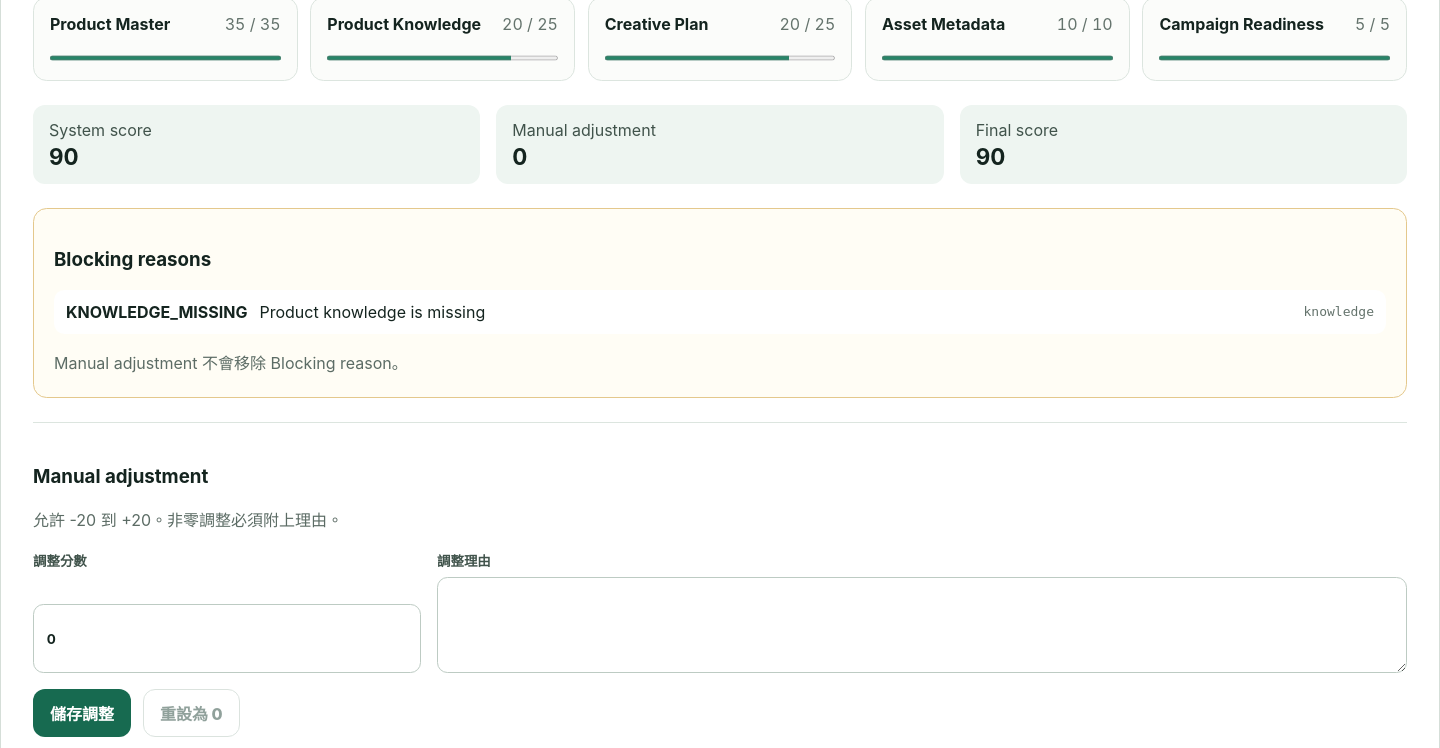
Test: QualityTab › provides recovery for HTTP 409
The width and height of the screenshot is (1440, 748).
(page scrolled)
Step 1. Replace the text in the number field labelled "調整分數" with "1" → (227, 639), box [33,604,421,673]
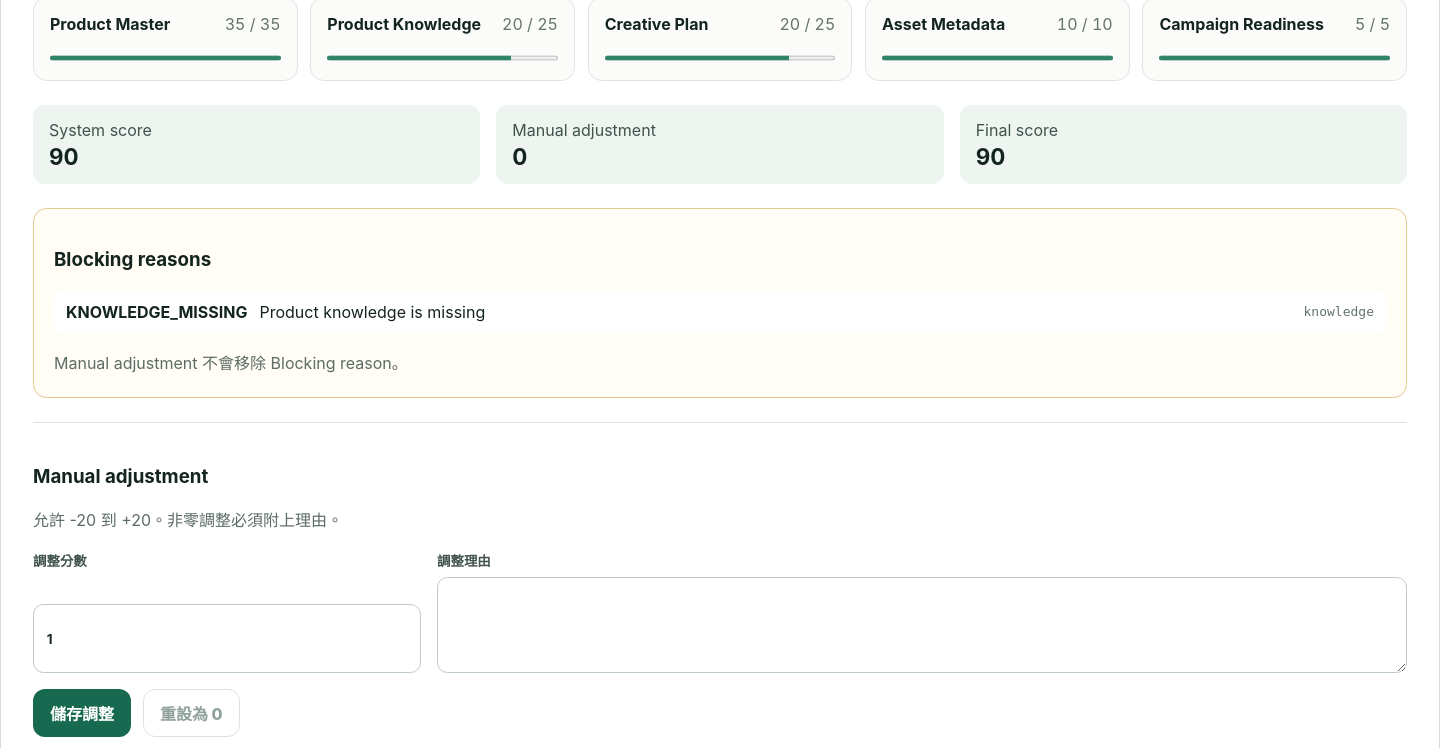
Step 2. Type "Review" into the text box labelled "調整理由" → (922, 625), box [437,577,1407,673]
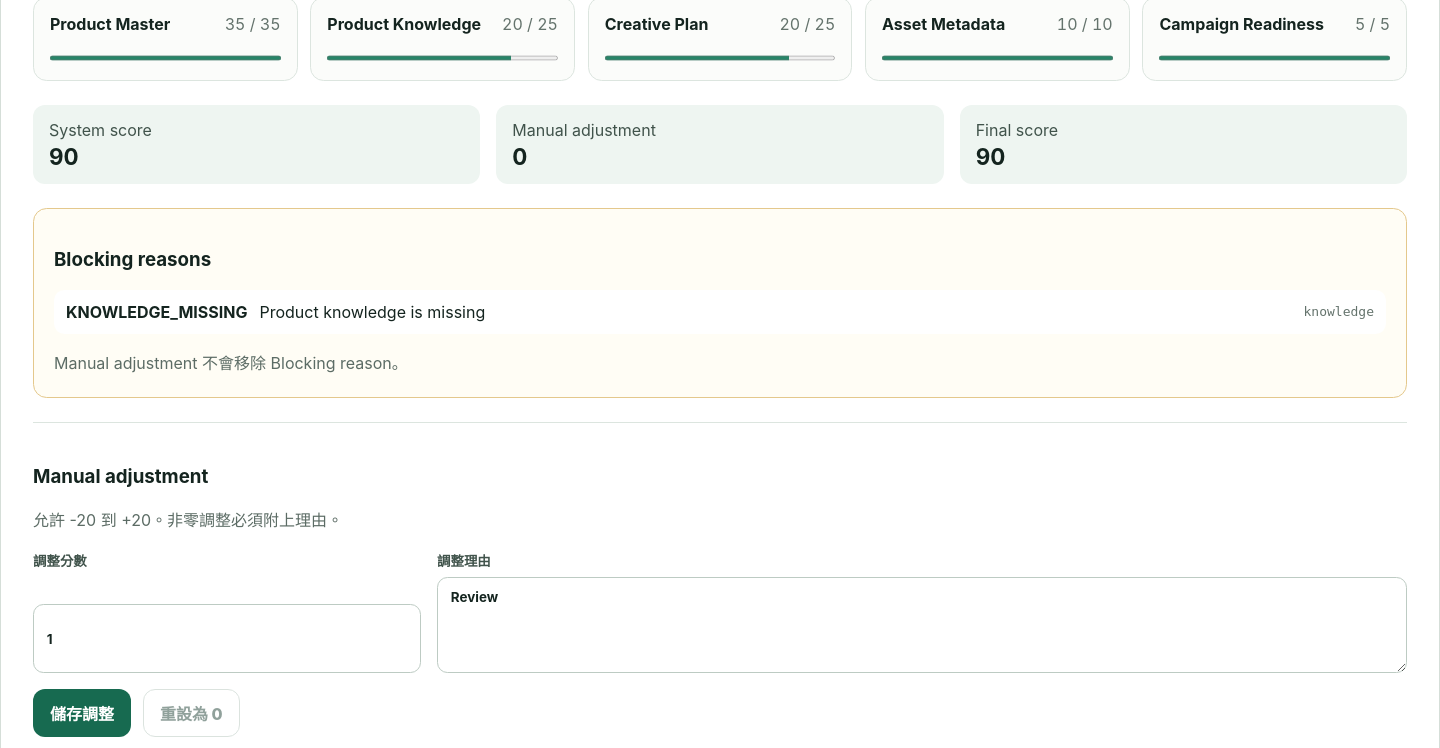
Step 3. Click the button "儲存調整" → (82, 713), box [33,689,131,737]
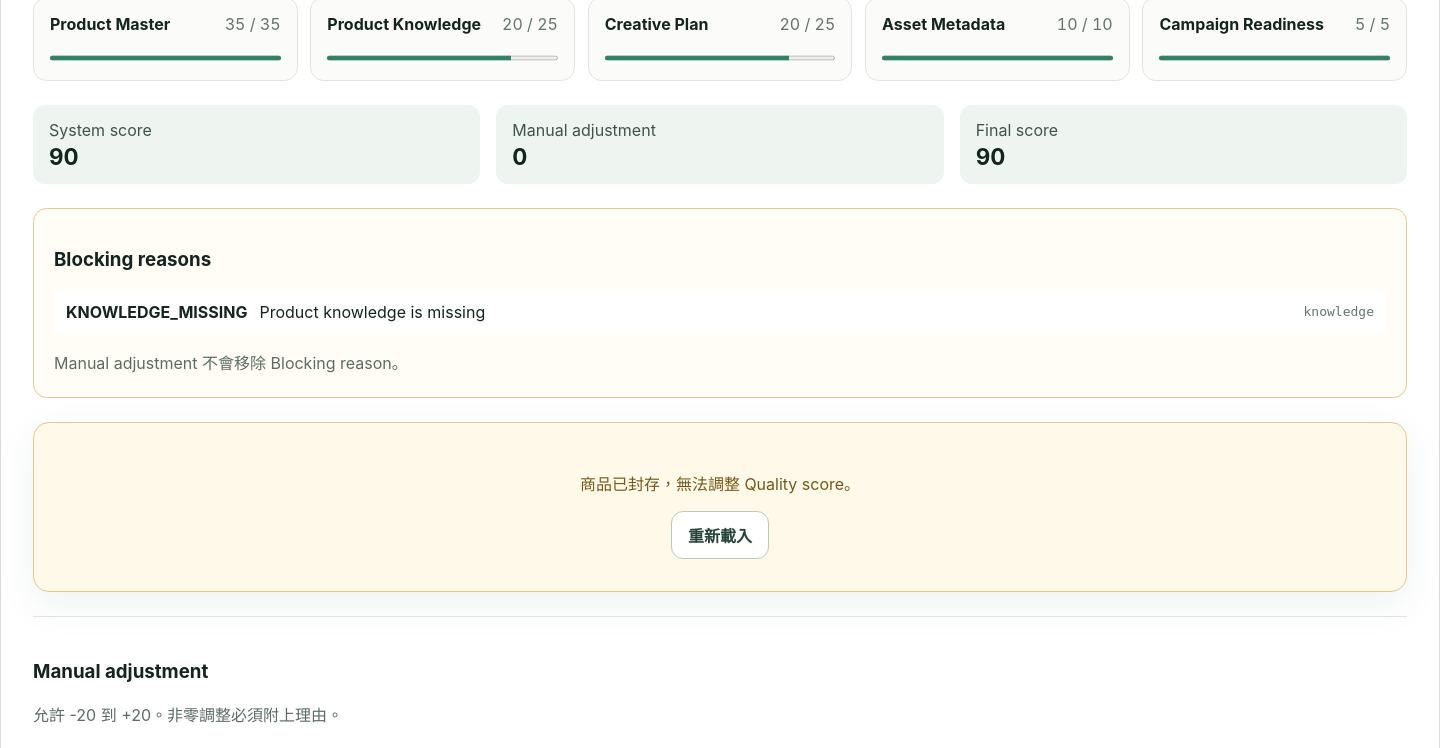
Expected: the message shows "商品已封存", [580,474,860,494]
Expected: the button "重新載入" is shown, [671,511,769,559]
